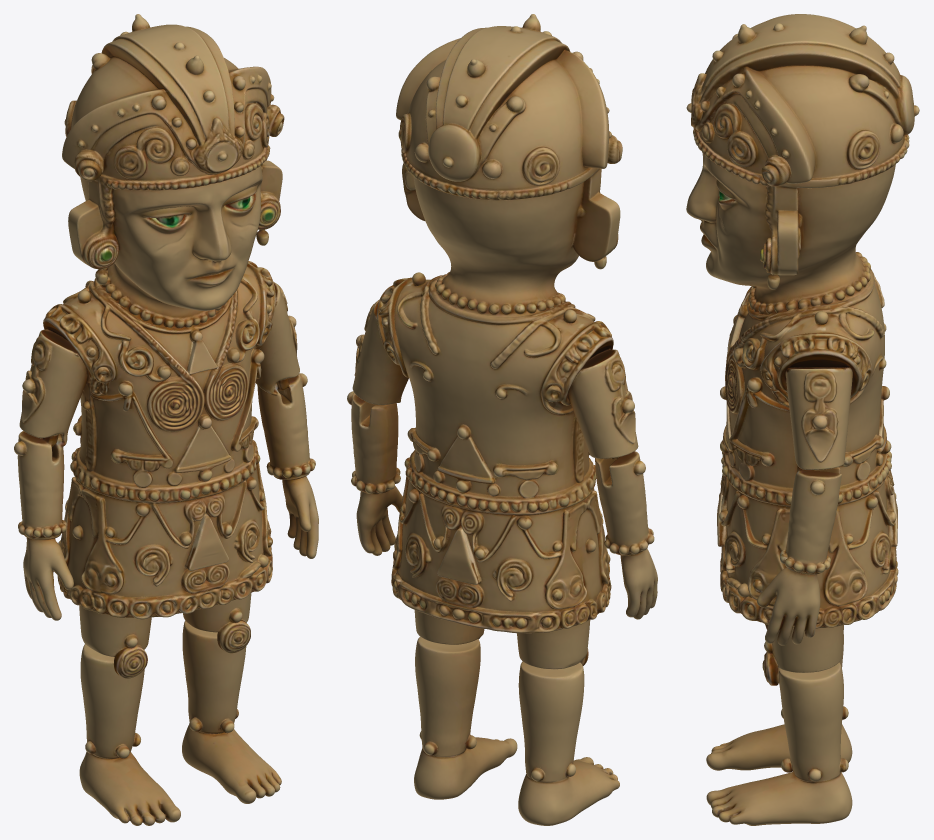
The model's file is 24-el-entierro-indígena-optimized.glb.
3 renders of one model, left to right at view 1: azimuth 30°, elevation 25°; view 2: azimuth 150°, elevation 25°; view 3: azimuth 270°, elevation 25°, orthographic. The views are drawn at different scales.
Visible parts, largest first — view 1: tripo_node_9fb386a7-ae08-4d59-abc7-f2ddaec38682; view 2: tripo_node_9fb386a7-ae08-4d59-abc7-f2ddaec38682; view 3: tripo_node_9fb386a7-ae08-4d59-abc7-f2ddaec38682.
Part boxes in pixels (x1=…): tripo_node_9fb386a7-ae08-4d59-abc7-f2ddaec38682: x1=14, y1=14, x2=318, y2=825; tripo_node_9fb386a7-ae08-4d59-abc7-f2ddaec38682: x1=347, y1=14, x2=657, y2=825; tripo_node_9fb386a7-ae08-4d59-abc7-f2ddaec38682: x1=686, y1=14, x2=919, y2=825.
Size of the model in its own units: 0.4073 by 1 by 0.2758.
1 material, 1 textured.
